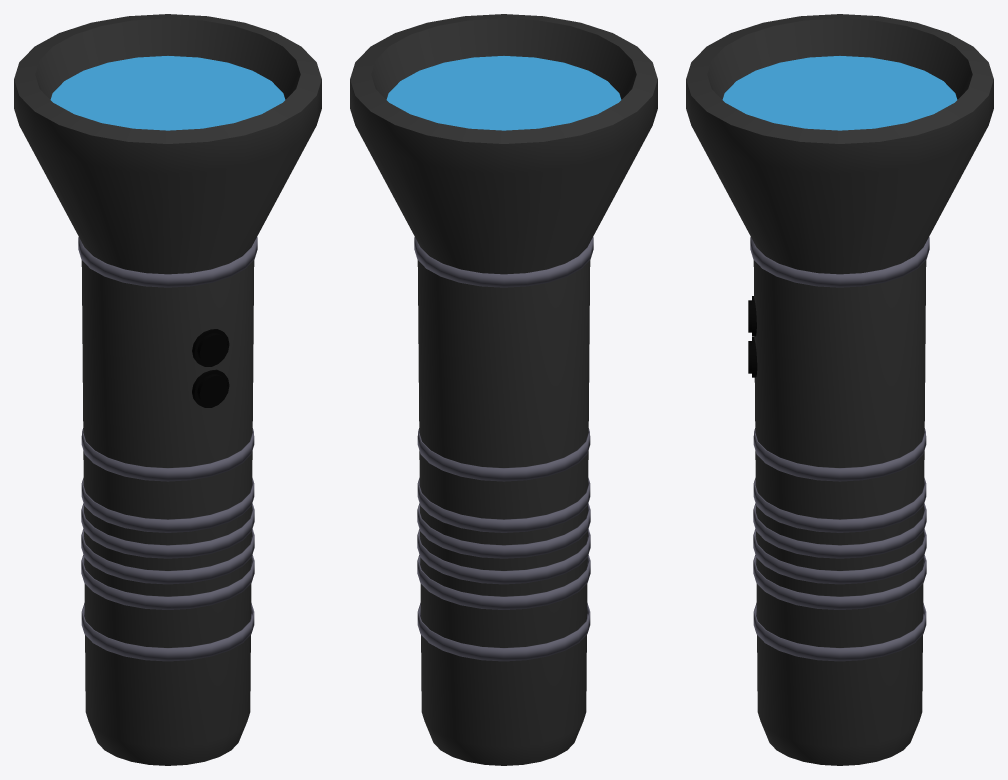
Rendered from linterna.fbx.
3 views of the same model, side by side, from view 1: azimuth 30°, elevation 25°; view 2: azimuth 150°, elevation 25°; view 3: azimuth 270°, elevation 25° (orthographic).
Parts seen in each view (by area): view 1: Cilindro, Cilindro.001, Cilindro.004, Cilindro.003, Cilindro.002; view 2: Cilindro, Cilindro.001, Cilindro.004; view 3: Cilindro, Cilindro.001, Cilindro.004.
Part boxes in pixels (box(x1,y1,x2,y2)): Cilindro: box(14, 14, 321, 765); Cilindro.001: box(81, 428, 254, 661); Cilindro.004: box(78, 237, 257, 287); Cilindro.003: box(192, 369, 229, 407); Cilindro.002: box(192, 329, 229, 366); Cilindro: box(350, 14, 657, 765); Cilindro.001: box(417, 428, 590, 661); Cilindro.004: box(414, 237, 593, 287); Cilindro: box(686, 14, 993, 765); Cilindro.001: box(753, 428, 926, 661); Cilindro.004: box(750, 237, 929, 287).
Bounding box in the file's own units: 213 × 504 × 213.
